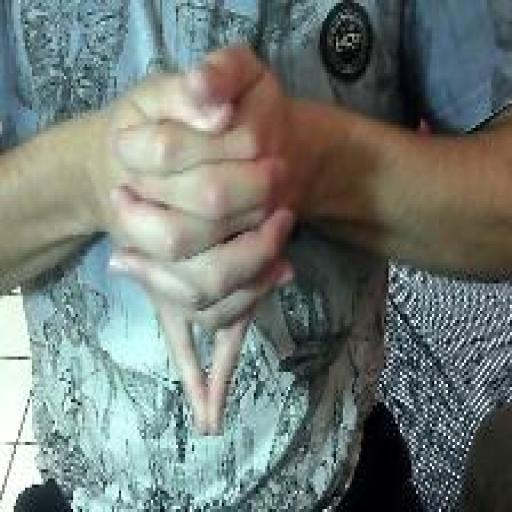Tatsu -dragon-: (103, 35, 306, 447)
